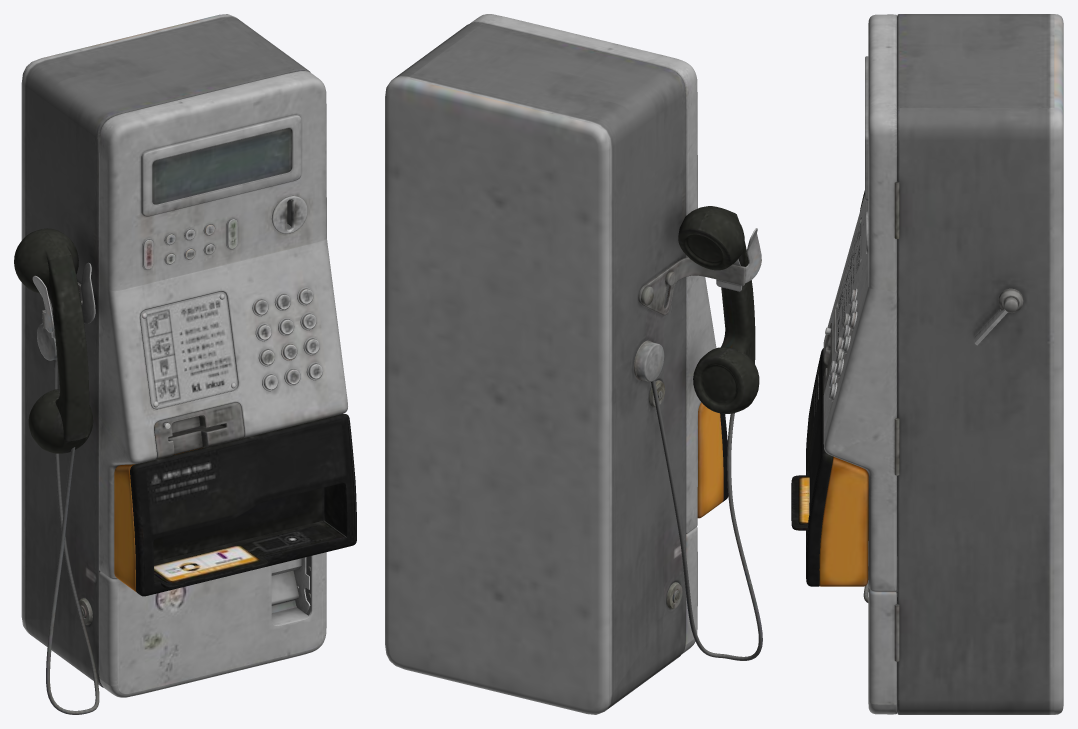
File: korean_public_payphone_01.glb
3 renders of one model, left to right at view 1: azimuth 30°, elevation 25°; view 2: azimuth 150°, elevation 25°; view 3: azimuth 270°, elevation 25°, orthographic. The views are drawn at different scales.
Parts seen in each view (by area): view 1: korean_public_payphone_01; view 2: korean_public_payphone_01; view 3: korean_public_payphone_01.
Part boxes in pixels (left/top/right/bottom): korean_public_payphone_01: left=14, top=14, right=356, bottom=714; korean_public_payphone_01: left=385, top=14, right=762, bottom=714; korean_public_payphone_01: left=791, top=14, right=1063, bottom=714.
Bounding box in the file's own units: 0.4006 × 0.7397 × 0.3012.
Materials: 1 (1 with a texture image).
